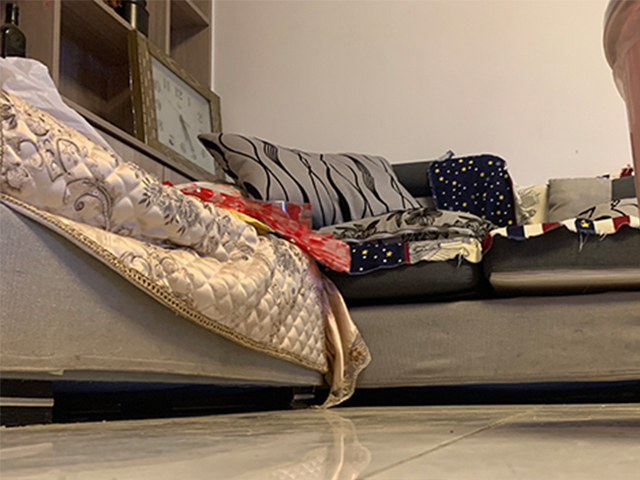sofa: (1, 87, 640, 422)
